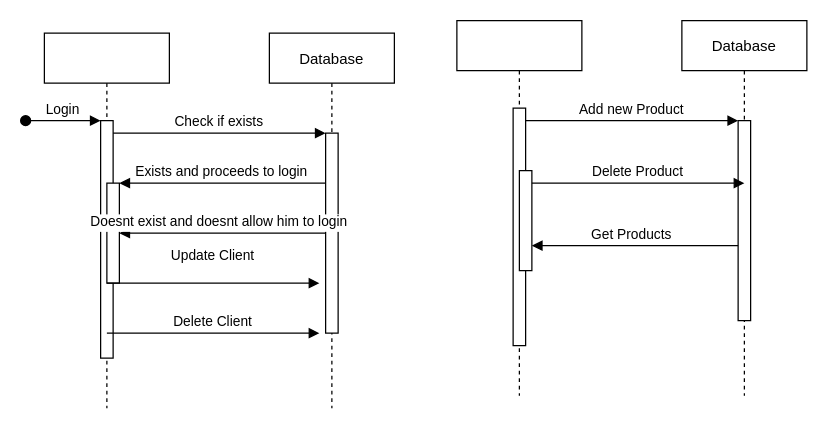
This 828x429 diagram has some shape labels left out. The centre of each missing label's shape, as x and y in pixels:
ClientServices: [106,220]
ProductServies: [519,207]
